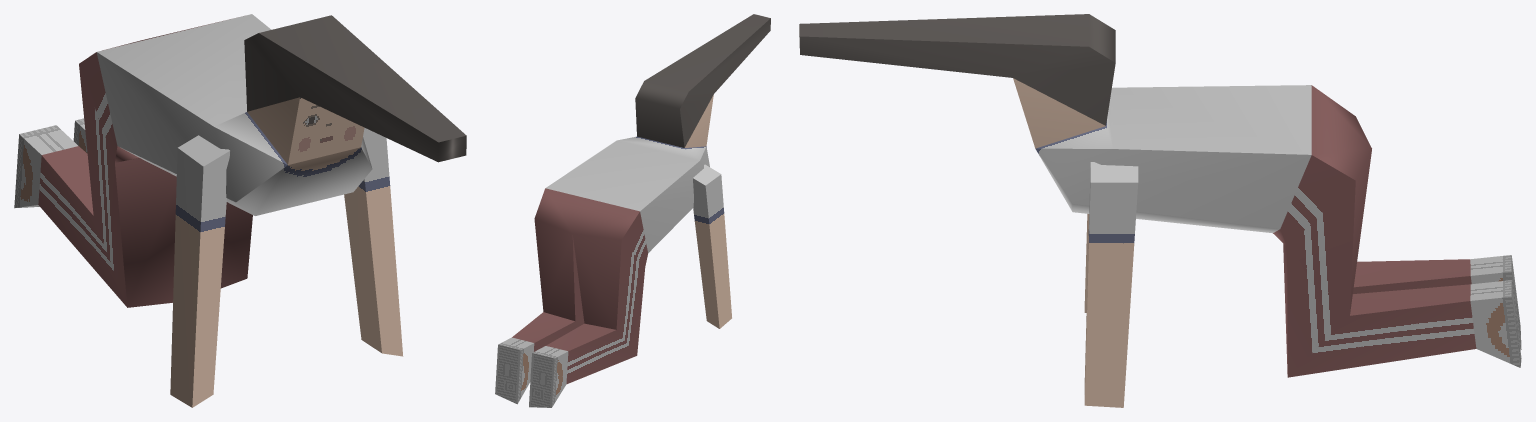
Rendered from 040b_Gymnastic_Boy.glb.
The picture shows the model from 3 angles, left to right: view 1: azimuth 30°, elevation 25°; view 2: azimuth 150°, elevation 25°; view 3: azimuth 270°, elevation 25°; orthographic projection. The views are drawn at different scales.
Visible parts, largest first — view 1: part_0; view 2: part_0; view 3: part_0.
Boxes of the visible parts, <box> form: part_0: <box>14,14,466,407</box>; part_0: <box>495,14,770,407</box>; part_0: <box>799,14,1521,407</box>.
Bounding box in the file's own units: 0.5529 × 0.8928 × 1.77.
Materials: 1 (1 with a texture image).
